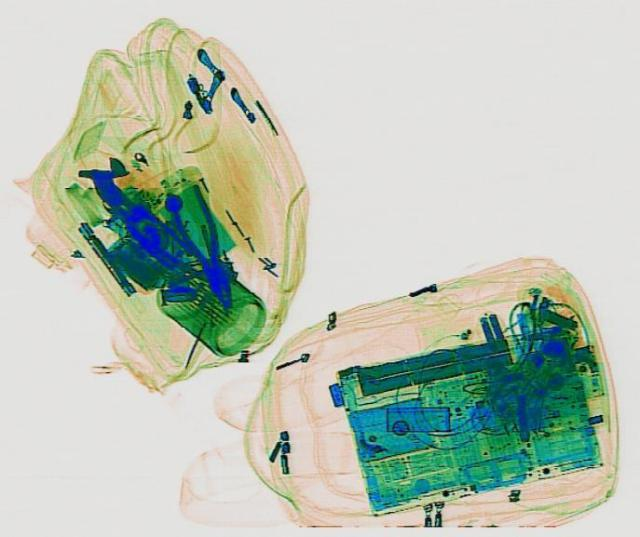Pliers: (160, 181, 244, 310)
